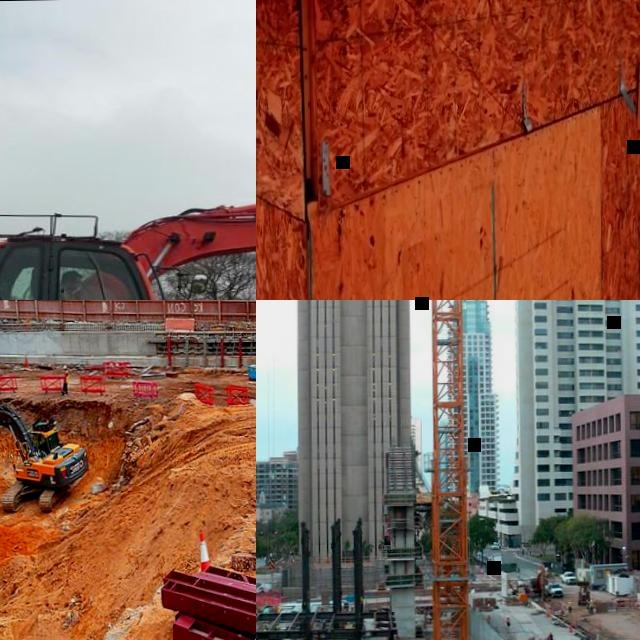Hardhat: (63, 364, 67, 368), (507, 615, 510, 617)
NO-Hardhat: (62, 269, 83, 279)
Person: (56, 267, 127, 300), (61, 364, 69, 395), (506, 615, 512, 628), (568, 599, 573, 613), (548, 632, 554, 640)
Safety Cone: (199, 527, 212, 573), (25, 355, 29, 368), (575, 615, 579, 625), (569, 623, 573, 633), (591, 629, 594, 639), (600, 619, 602, 630)
Safety Vest: (64, 369, 69, 384), (568, 601, 572, 607)
machinery: (0, 142, 256, 300), (0, 390, 90, 517), (526, 561, 549, 603), (578, 580, 591, 605)
vehicle: (546, 582, 564, 597), (561, 571, 577, 584)
